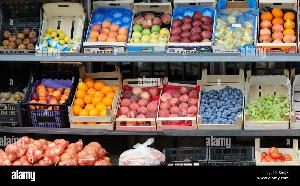apple: (167, 7, 216, 53), (42, 9, 82, 58), (129, 8, 171, 48), (1, 17, 42, 49)
grape: (244, 74, 292, 122)
onion: (0, 129, 110, 165)
orange: (74, 77, 116, 119)
peach: (25, 76, 81, 116), (115, 78, 159, 127), (159, 83, 205, 127), (80, 10, 132, 48)
plum: (200, 83, 242, 128)
pomegranate: (255, 4, 300, 50)
tomato: (256, 142, 300, 166)
